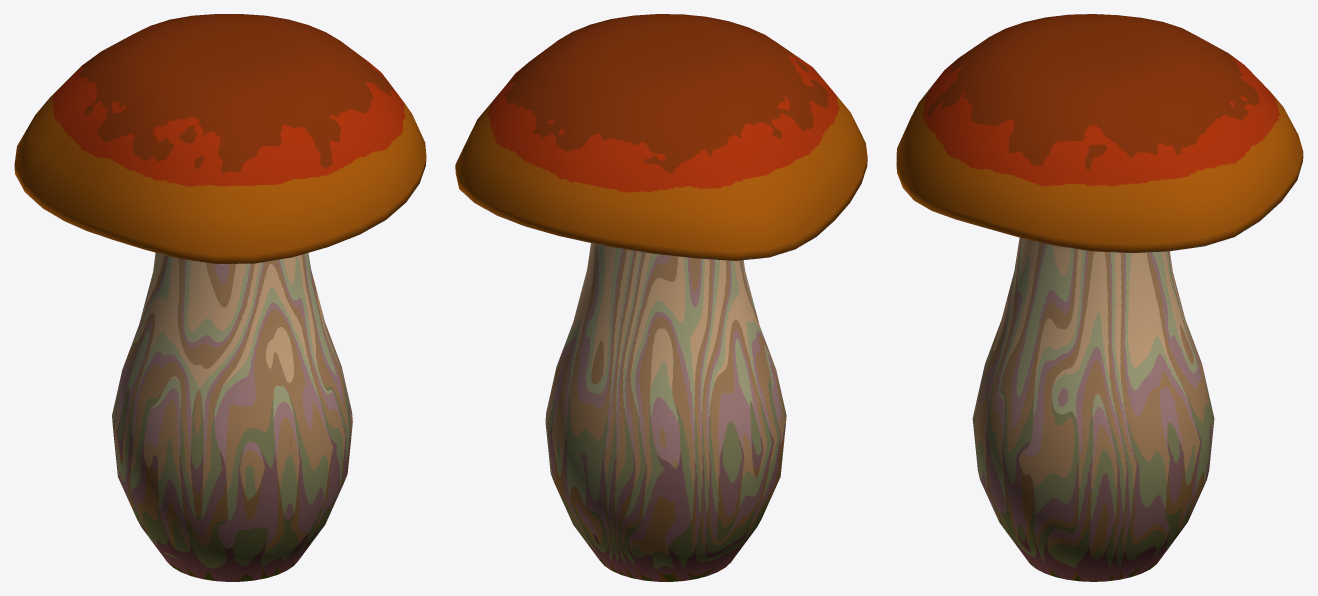
File: KingMushPosterized.glb
3 views of the same model, side by side, from view 1: azimuth 30°, elevation 25°; view 2: azimuth 150°, elevation 25°; view 3: azimuth 270°, elevation 25° (orthographic).
Parts seen in each view (by area): view 1: Circle.003; view 2: Circle.003; view 3: Circle.003.
Part boxes in pixels (left/top/right/bottom): Circle.003: left=14, top=14, right=426, bottom=581; Circle.003: left=455, top=14, right=867, bottom=581; Circle.003: left=896, top=14, right=1303, bottom=581.
Bounding box in the file's own units: 7.82 × 11.11 × 8.11.
2 materials, 2 textured.
